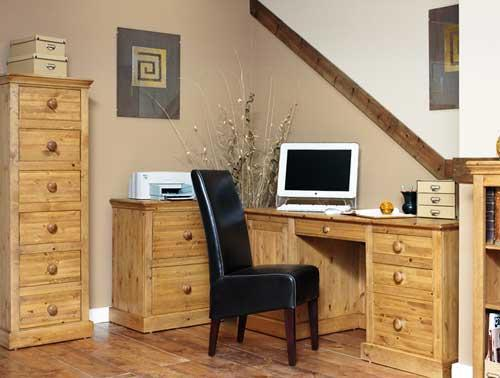Armario: (9, 75, 94, 341)
